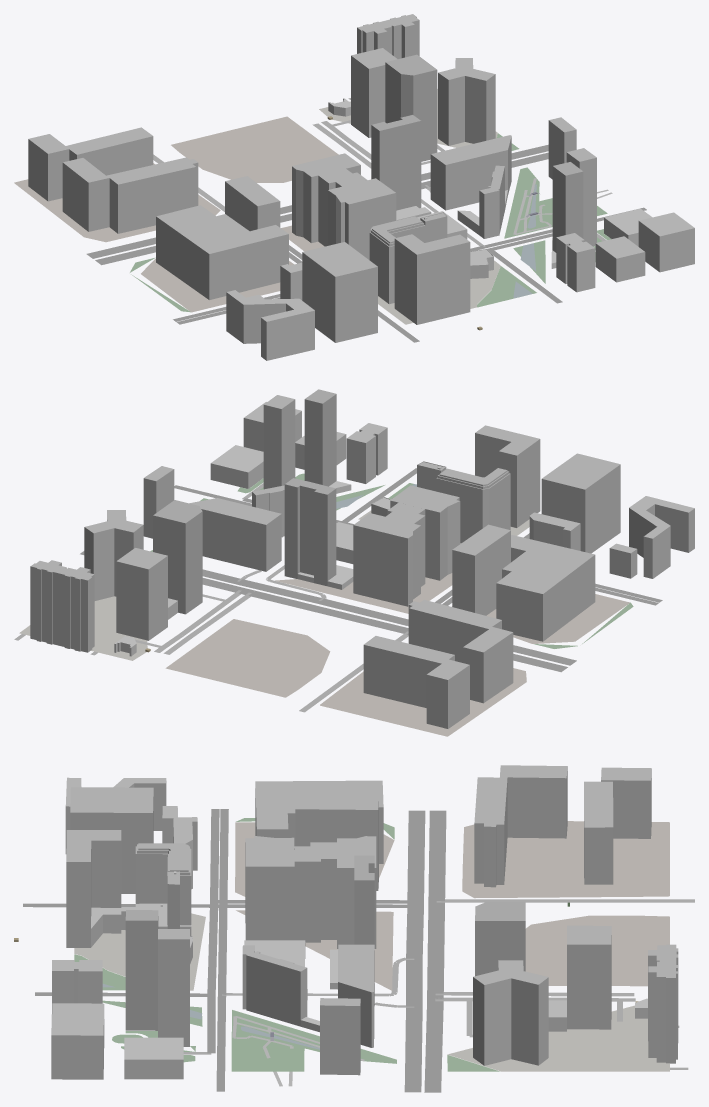
3 renders of one model, top to bottom at view 1: azimuth 30°, elevation 25°; view 2: azimuth 150°, elevation 25°; view 3: azimuth 270°, elevation 25°, orthographic. The views are drawn at different scales.
Size of the model in its own units: 559 by 103 by 571.
